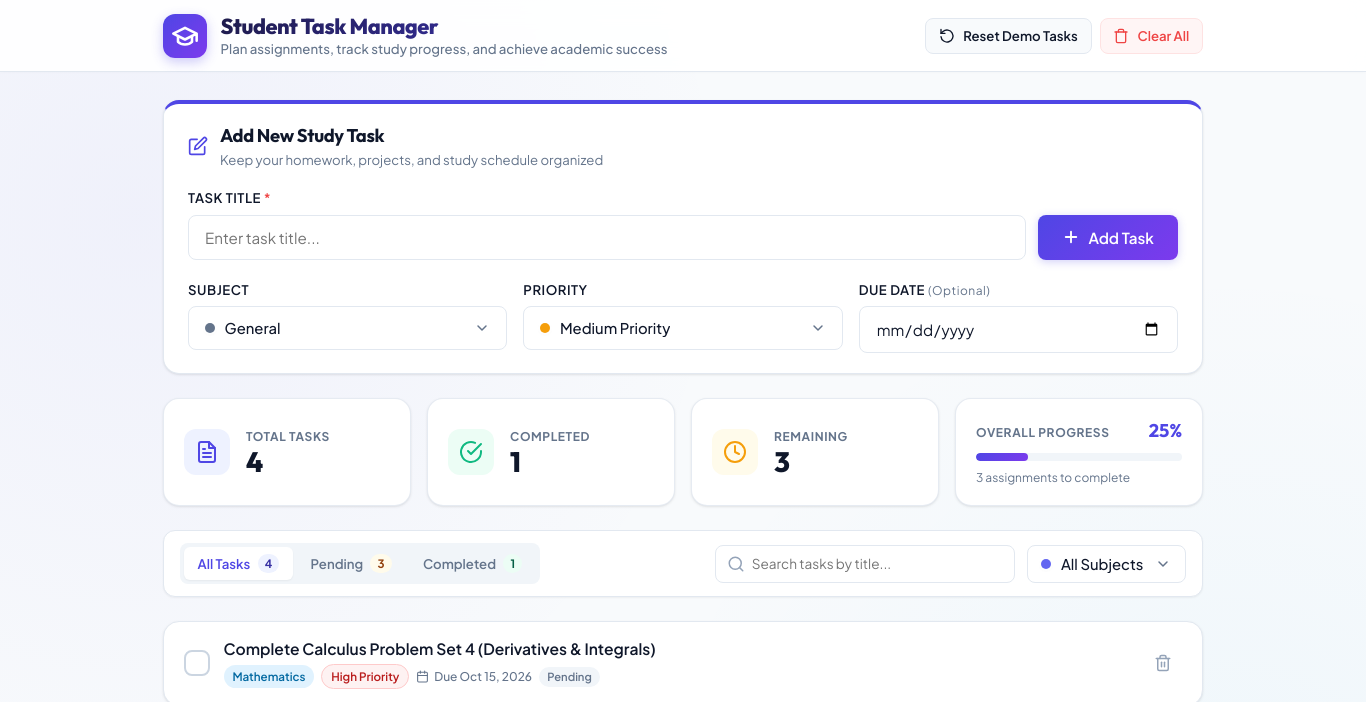
Test: Student Task Manager - Essential Assignment Test Suite › conditionally renders "No tasks available" when task list is empty (Feature 5)
Note: Clear all tasks
Click the button "Clear All". click: (1151, 36)
box: [1100,18,1203,54]
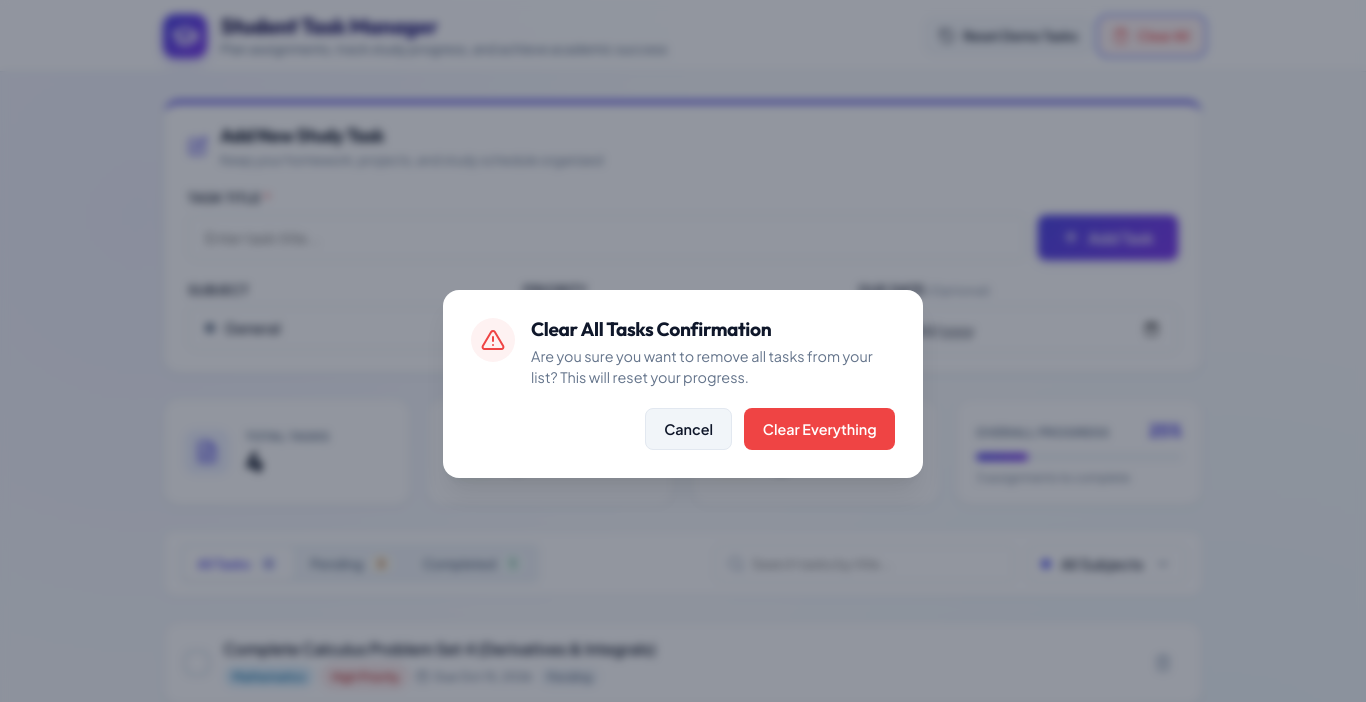
Click the button "Clear Everything". click: (820, 429)
box: [744,408,895,450]
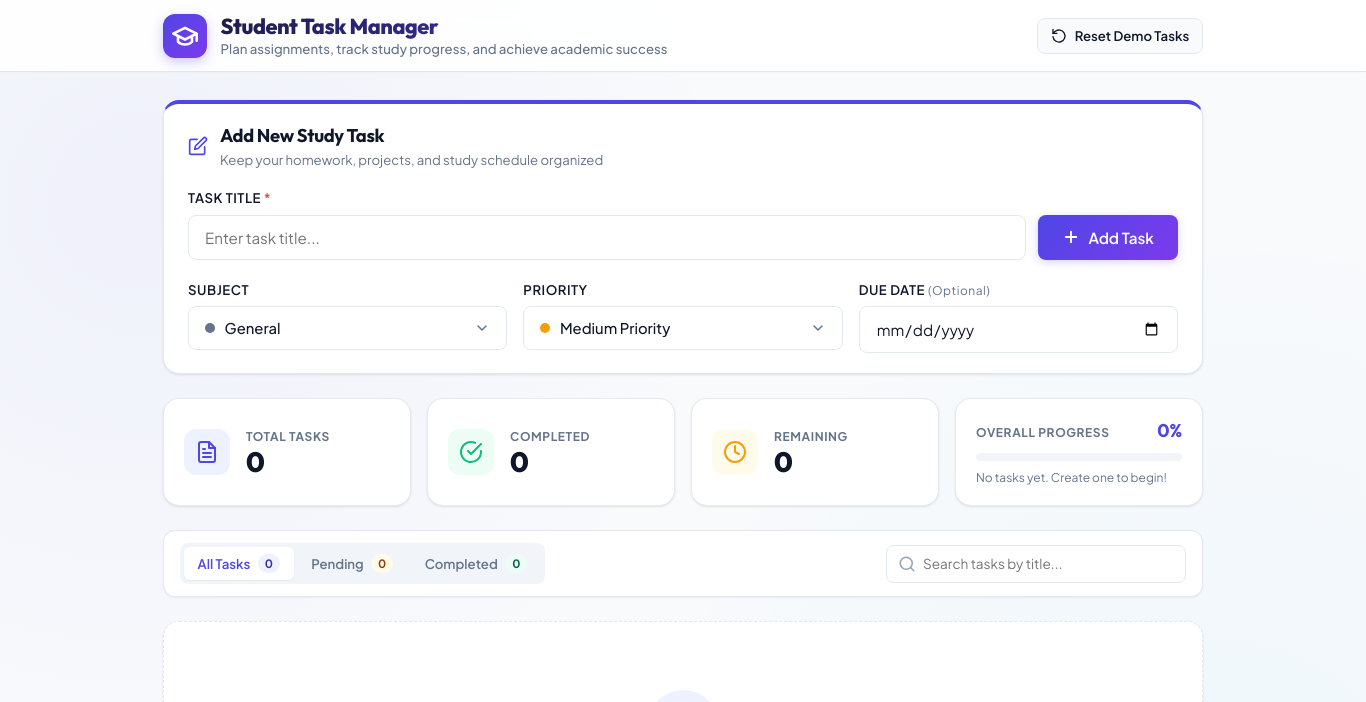
Expected: the text with test id "stat-total-count" reads "0", [246,444,265,479]
Note: Reset demo tasks restore action
Click the button "Reset Demo Tasks". click: (1120, 36)
box: [1037,18,1203,54]
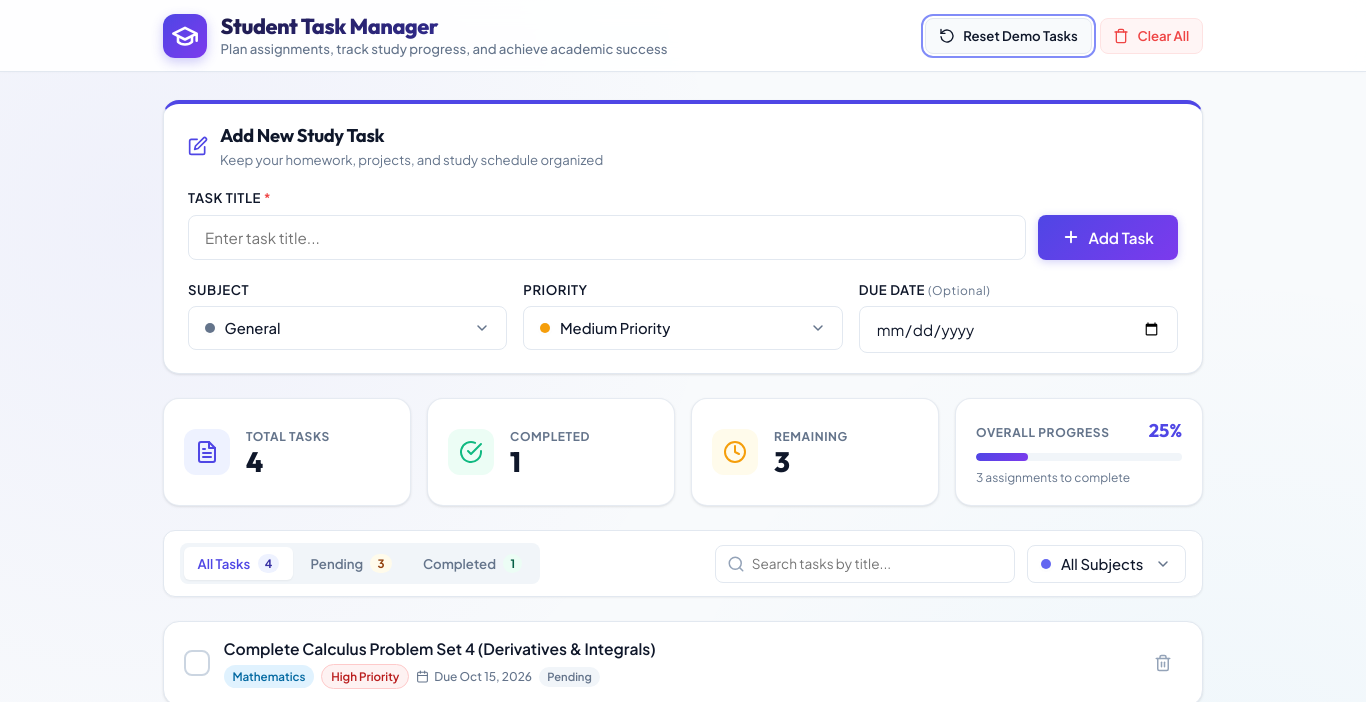
Expected: the text "Complete Calculus Problem Set 4 (Derivatives & Integrals)" is shown, [224,638,656,659]
Expected: the text with test id "stat-total-count" reads "4", [246,444,263,479]
